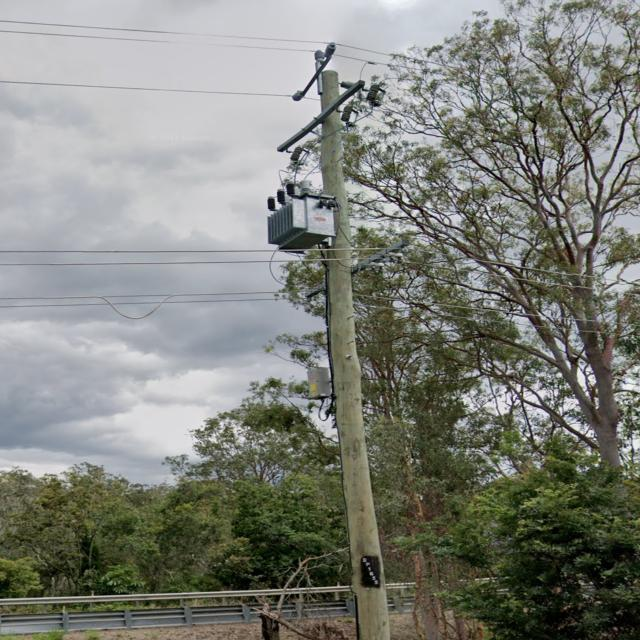HV-transmission: (278, 42, 383, 162)
crossarm: (274, 76, 364, 153), (302, 236, 412, 298), (295, 41, 340, 101)
timber-pole: (320, 69, 391, 640)
transformer: (268, 178, 331, 254)
